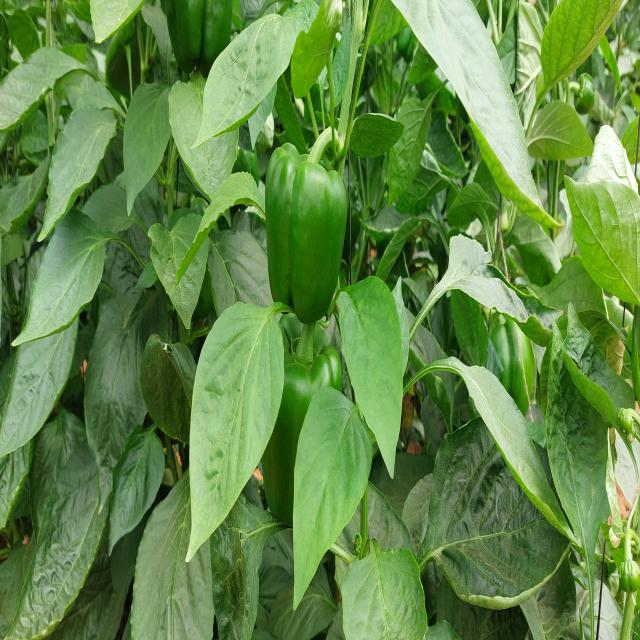Green--Not-ready-to-harvest: (267, 124, 353, 330), (262, 348, 348, 518)
